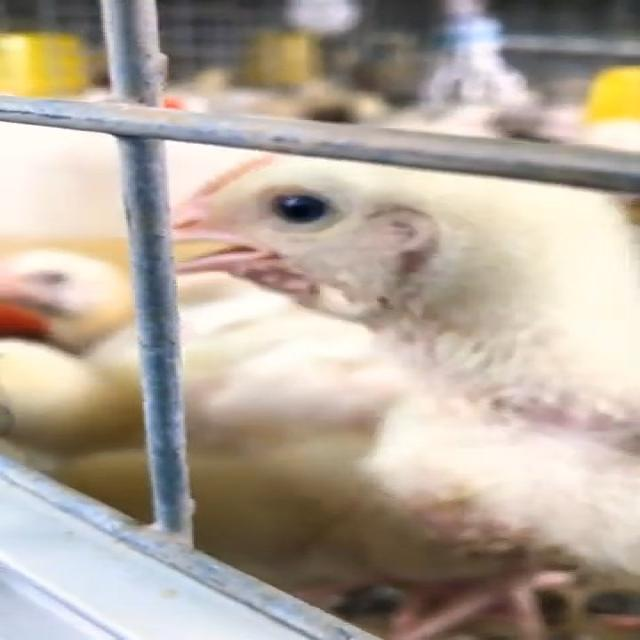Breathing: (153, 114, 640, 640)
